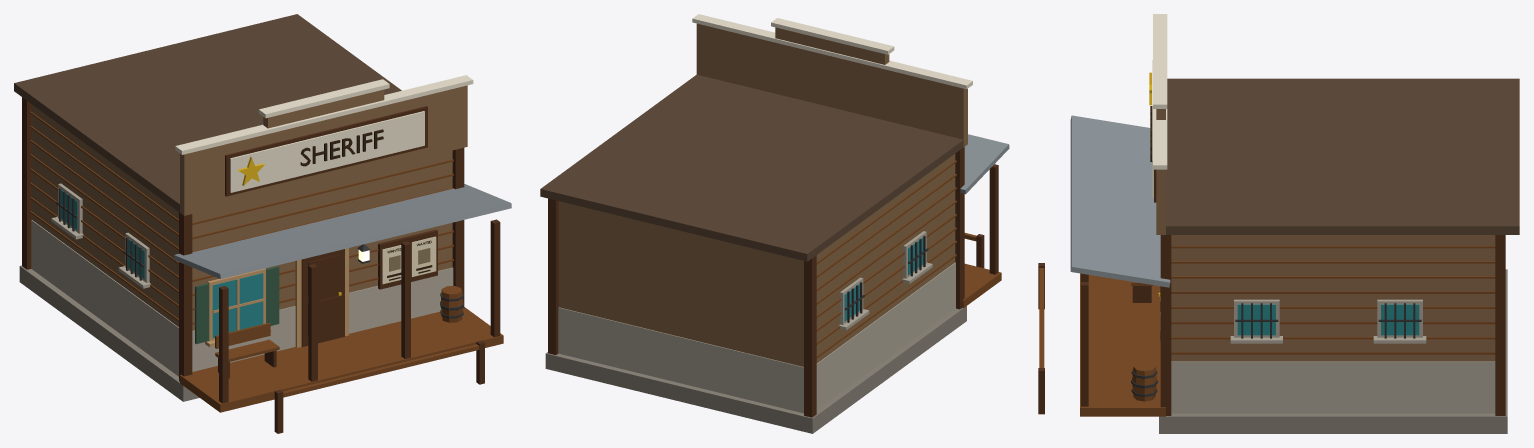
File: Building_Sheriff.fbx
The picture shows the model from 3 angles, left to right: view 1: azimuth 30°, elevation 25°; view 2: azimuth 150°, elevation 25°; view 3: azimuth 270°, elevation 25°; orthographic projection. The views are drawn at different scales.
Visible parts, largest first — view 1: Building_Sheriff; view 2: Building_Sheriff; view 3: Building_Sheriff.
Boxes of the visible parts, x1=… form: Building_Sheriff: x1=14, y1=14, x2=511, y2=433; Building_Sheriff: x1=540, y1=14, x2=1009, y2=433; Building_Sheriff: x1=1038, y1=14, x2=1519, y2=433.
Bounding box in the file's own units: 7.5 × 6.65 × 10.07.
